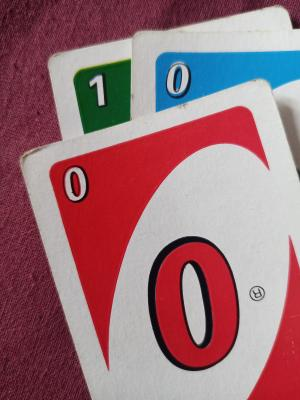green: (40, 31, 158, 139)
num_0: (56, 161, 95, 205), (161, 53, 194, 103)
num_1: (83, 68, 113, 113)
